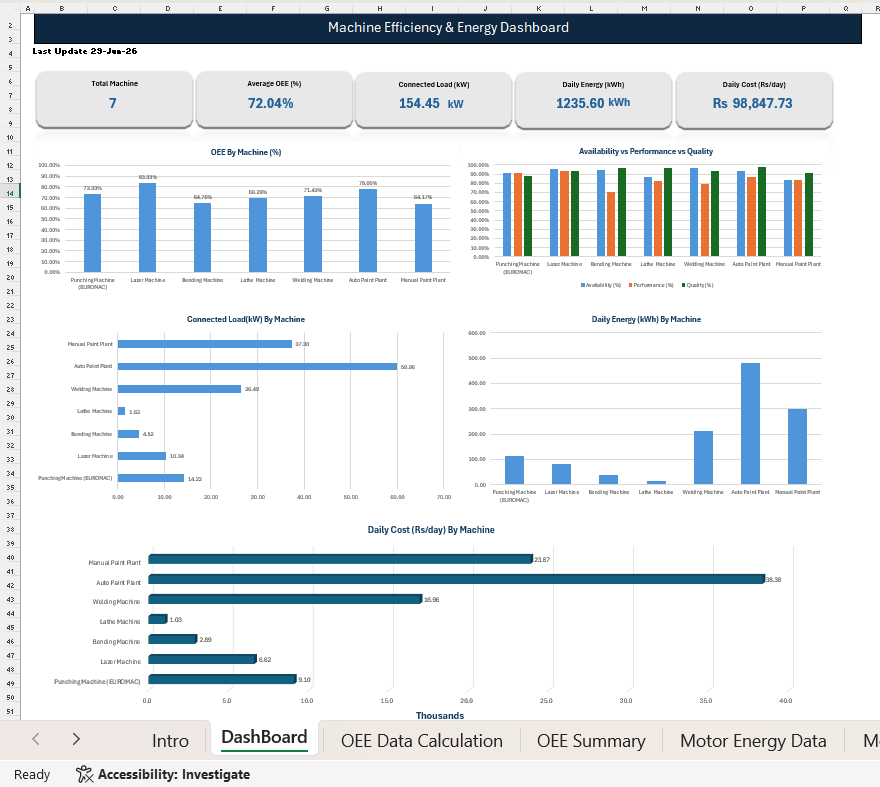

The page's visual inventory and layout, read from the dashboard file:
{"tool":"powerbi","page":{"name":"DashBoard","canvas":[1280,720],"ordinal":0},"visuals":[{"type":"textbox","box":[1,0,1279.3,64.4],"z":0},{"type":"cardVisual","fields":{"Data":["tblEnergySummary.Total Machines"]},"box":[95.6,56.1,208.9,151.7],"z":1000},{"type":"cardVisual","fields":{"Data":["tblOEE.Average OEE"]},"box":[288.4,55.8,208.1,144.2],"z":2000},{"type":"cardVisual","fields":{"Data":["tblEnergySummary.Total Load Connected"]},"box":[512.8,55.8,223.3,144.2],"z":3000},{"type":"cardVisual","fields":{"Data":["tblEnergySummary.Daily Energy(kWh)"]},"box":[752.3,55.8,208.1,144.2],"z":4000},{"type":"cardVisual","fields":{"Data":["tblEnergySummary.Cost (Rs/day)"]},"box":[960.5,55.8,207,144.2],"z":5000},{"type":"slicer","fields":{"Values":["tblOEE.Machine"]},"box":[217.2,175.6,849.1,90.4],"z":6000},{"type":"clusteredColumnChart","fields":{"Category":["tblOEE.Machine"],"Y":["Sum(tblOEE.OEE (%))"]},"box":[15.6,257.7,427.1,230.7],"z":7000},{"type":"clusteredColumnChart","title":"Availability (%) Vs Performance (%) Vs Quality (%) ","fields":{"Category":["tblOEE.Machine"],"Y":["Sum(tblOEE.Availability (%))","Sum(tblOEE.Performance (%))","Sum(tblOEE.Quality (%))"]},"box":[16,496,608,224],"z":8000},{"type":"clusteredColumnChart","title":"Connected Load(kW) by Machine","fields":{"Category":["tblEnergySummary.Machine"],"Y":["Sum(tblEnergySummary.Connected Load(kW))"]},"box":[435.5,258.8,449,230.7],"z":9000},{"type":"columnChart","title":"Daily Energy (kWh) by Machine","fields":{"Category":["tblEnergySummary.Machine"],"Y":["Sum(tblEnergySummary.Daily Energy (kWh))"]},"box":[863.6,266.1,416.7,223.4],"z":10000},{"type":"clusteredBarChart","title":"Daily Cost (Rs/day) by Machine","fields":{"Category":["tblEnergySummary.Machine"],"Y":["Sum(tblEnergySummary.Daily Cost (Rs/day))"]},"box":[612.1,488.5,668.2,231.8],"z":11000}]}

Visuals, with their boxes on the page's 1280x720 design canvas (x1, y1, x2, y2). These are canvas units, not pixel positions in the 880x787 screenshot, which may show the page scaled, cropped or inside an application window:
textbox: Rect(1, 0, 1280, 64)
cardVisual - tblEnergySummary.Total Machines: Rect(96, 56, 304, 208)
cardVisual - tblOEE.Average OEE: Rect(288, 56, 496, 200)
cardVisual - tblEnergySummary.Total Load Connected: Rect(513, 56, 736, 200)
cardVisual - tblEnergySummary.Daily Energy(kWh): Rect(752, 56, 960, 200)
cardVisual - tblEnergySummary.Cost (Rs/day): Rect(960, 56, 1168, 200)
slicer - tblOEE.Machine: Rect(217, 176, 1066, 266)
clusteredColumnChart - tblOEE.Machine x Sum(tblOEE.OEE (%)): Rect(16, 258, 443, 488)
"Availability (%) Vs Performance (%) Vs Quality (%) " clusteredColumnChart: Rect(16, 496, 624, 720)
"Connected Load(kW) by Machine" clusteredColumnChart: Rect(436, 259, 884, 490)
"Daily Energy (kWh) by Machine" columnChart: Rect(864, 266, 1280, 490)
"Daily Cost (Rs/day) by Machine" clusteredBarChart: Rect(612, 488, 1280, 720)
